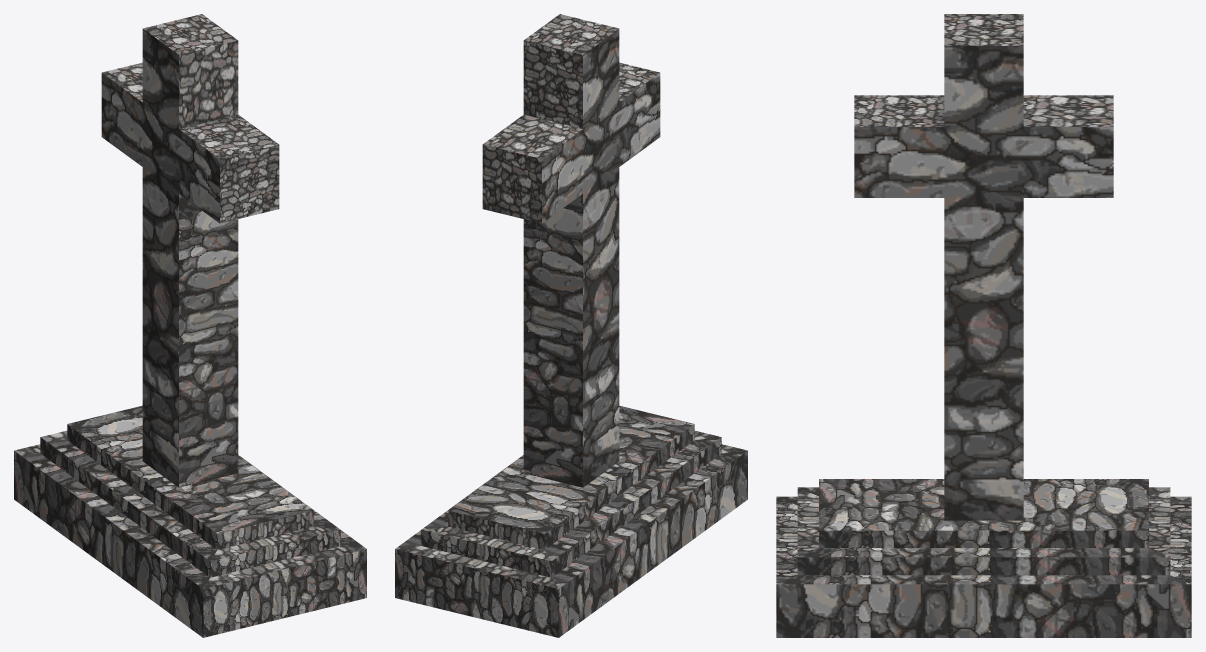
File: CrossGravestone.fbx
3 renders of one model, left to right at view 1: azimuth 30°, elevation 25°; view 2: azimuth 150°, elevation 25°; view 3: azimuth 270°, elevation 25°, orthographic. The views are drawn at different scales.
Parts seen in each view (by area): view 1: CrossGravestone; view 2: CrossGravestone; view 3: CrossGravestone.
Boxes of the visible parts, box(x1,y1,x2,y2) form: CrossGravestone: box(14, 14, 366, 637); CrossGravestone: box(395, 14, 747, 637); CrossGravestone: box(776, 14, 1191, 637).
Bounding box in the file's own units: 35 × 105 × 70.
Materials: 1 (1 with a texture image).
